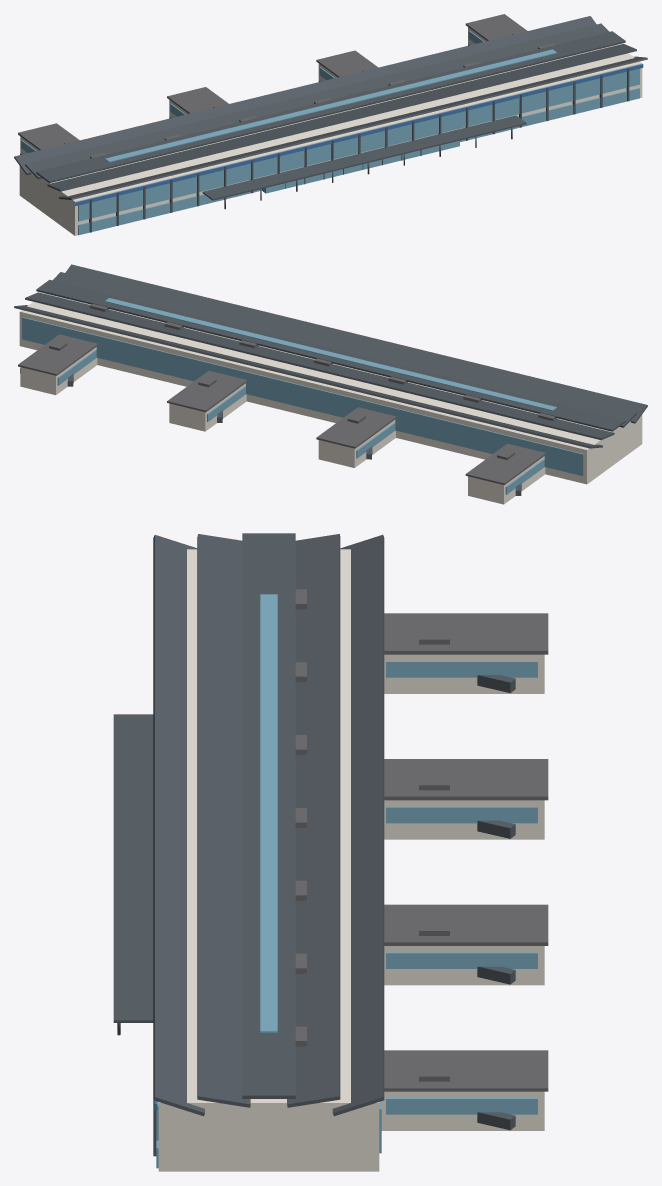
The model's file is airport_terminal.glb.
The picture shows the model from 3 angles, top to bottom: view 1: azimuth 30°, elevation 25°; view 2: azimuth 150°, elevation 25°; view 3: azimuth 270°, elevation 25°; orthographic projection. The views are drawn at different scales.
Visible parts, largest first — view 1: Merged_TowerMetal, Merged_FacadeGlass, Merged_FacadeMain, Merged_RoofDark, term_stripe; view 2: Merged_TowerMetal, Merged_FacadeMain, Merged_FacadeGlass, Merged_RoofDark; view 3: Merged_TowerMetal, Merged_FacadeMain, Merged_RoofDark, Merged_FacadeGlass.
Boxes of the visible parts, bbox=[...] form: Merged_TowerMetal: bbox=[14, 16, 647, 232]; Merged_FacadeGlass: bbox=[21, 30, 639, 235]; Merged_FacadeMain: bbox=[19, 27, 642, 235]; Merged_RoofDark: bbox=[18, 14, 554, 158]; term_stripe: bbox=[75, 64, 643, 205]; Merged_TowerMetal: bbox=[14, 264, 647, 495]; Merged_FacadeMain: bbox=[19, 293, 642, 504]; Merged_FacadeGlass: bbox=[22, 298, 583, 494]; Merged_RoofDark: bbox=[18, 304, 556, 484]; Merged_TowerMetal: bbox=[113, 533, 515, 1156]; Merged_FacadeMain: bbox=[158, 549, 544, 1171]; Merged_RoofDark: bbox=[295, 589, 548, 1091]; Merged_FacadeGlass: bbox=[156, 594, 537, 1168].
Size of the model in its own units: 386 by 26.25 by 126.
